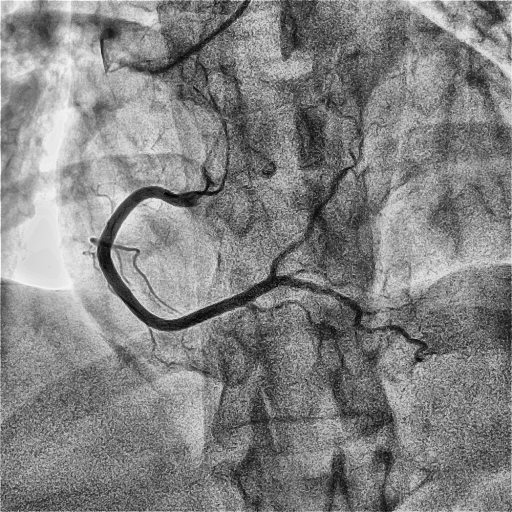pborca: (268, 167, 349, 276)
pda: (277, 276, 436, 362)
rca: (97, 186, 279, 331)
